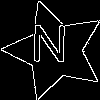N: (30, 25, 68, 71)
